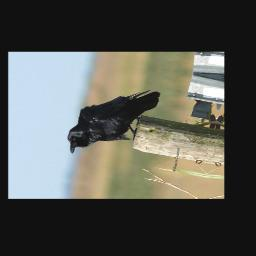Crow: (64, 79, 162, 164)
